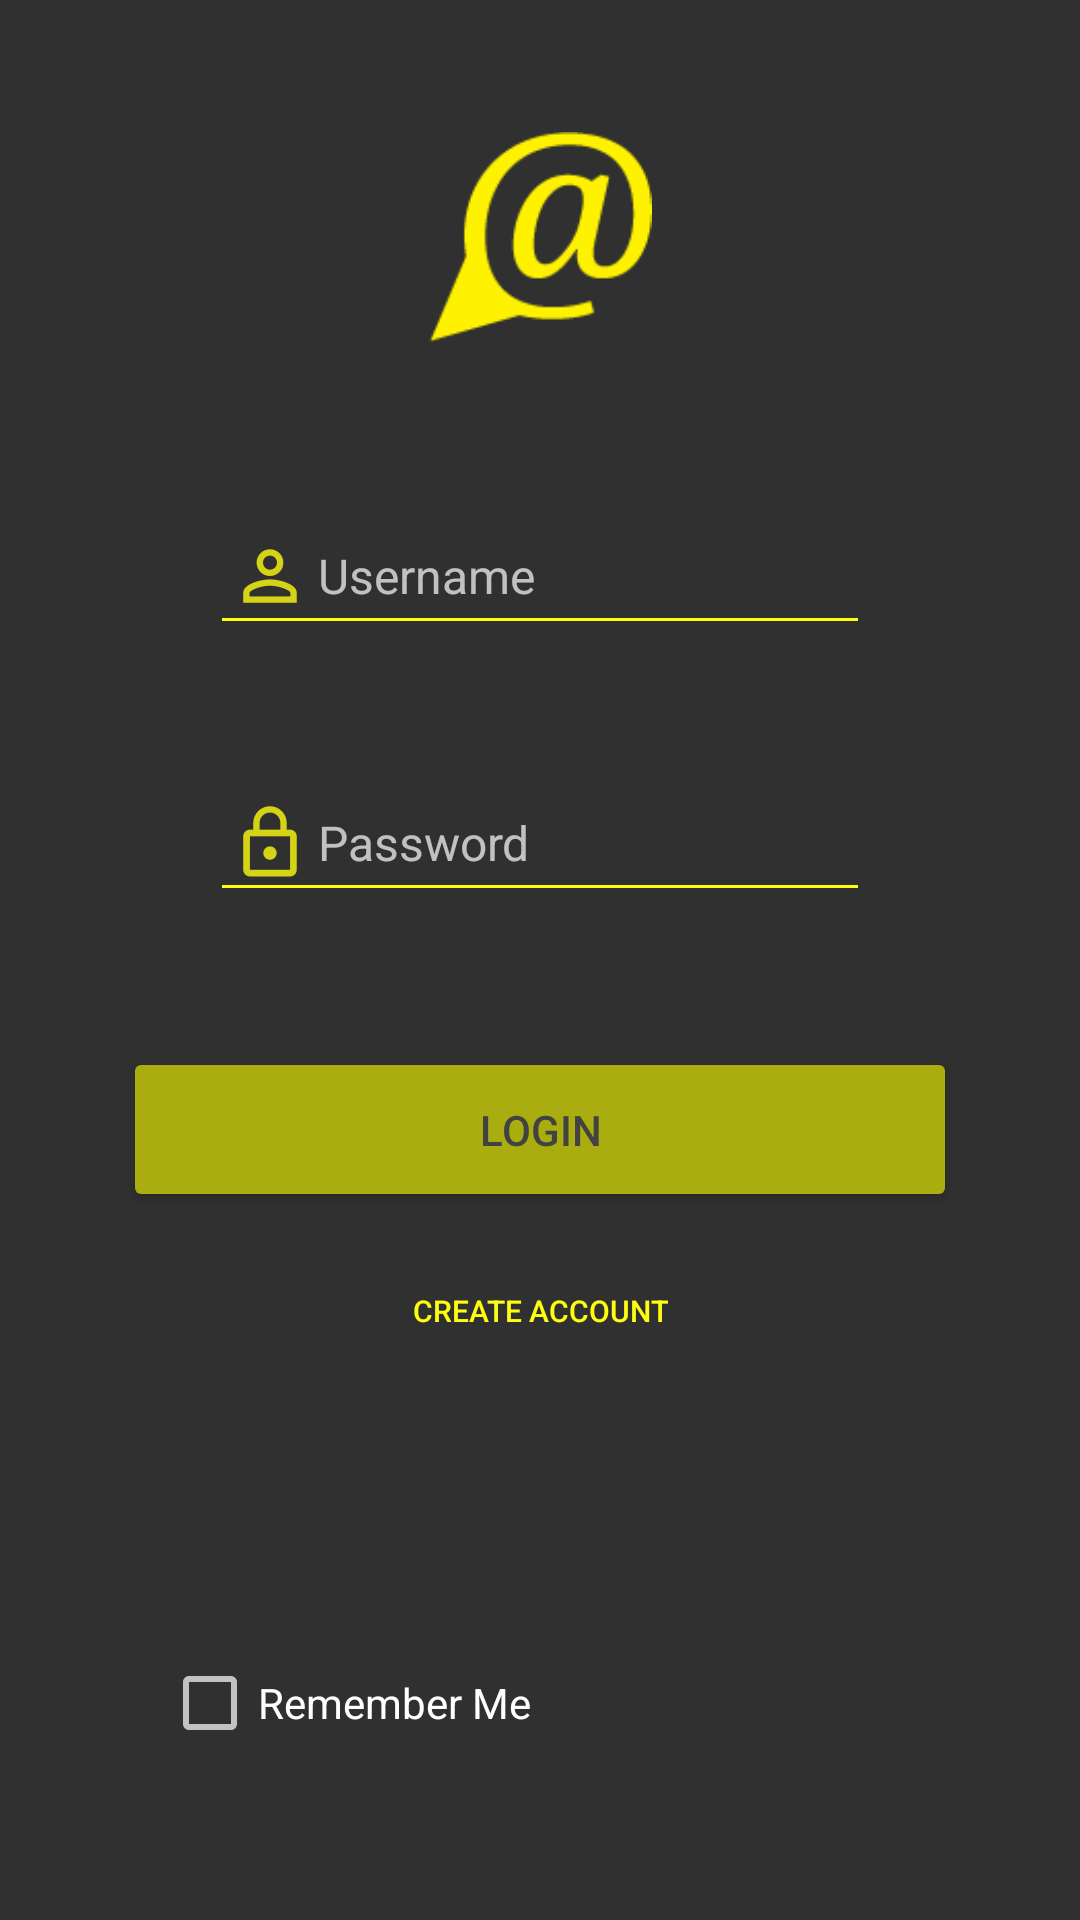

Icon bounding boxes for this 1080w x 1920h phone screenshot, format (x1, y1, x2, y2):
atchaticonblank: (431, 132, 652, 342)
